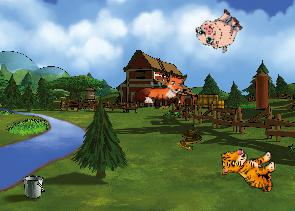fox: (134, 69, 187, 105)
pig: (191, 2, 247, 58)
tiger: (220, 146, 277, 194)
